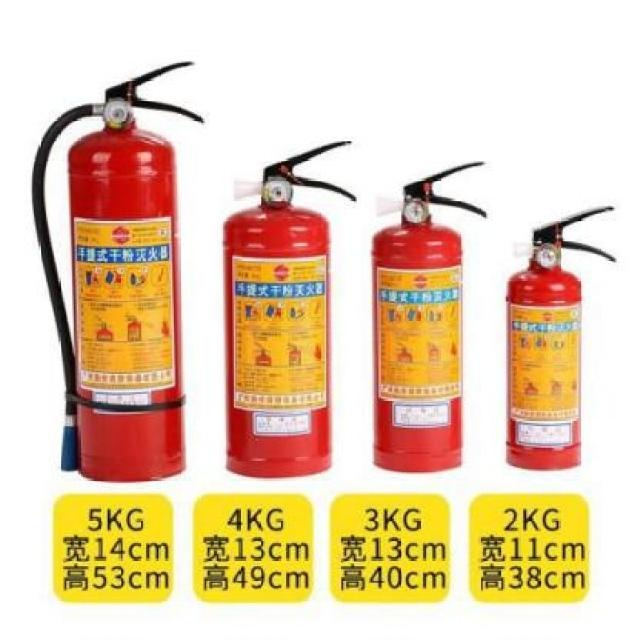fire extinguisher: (31, 60, 206, 483), (220, 139, 357, 478), (369, 161, 486, 474), (505, 205, 617, 471)
